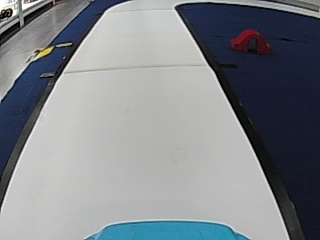bridge: (230, 27, 269, 52)
